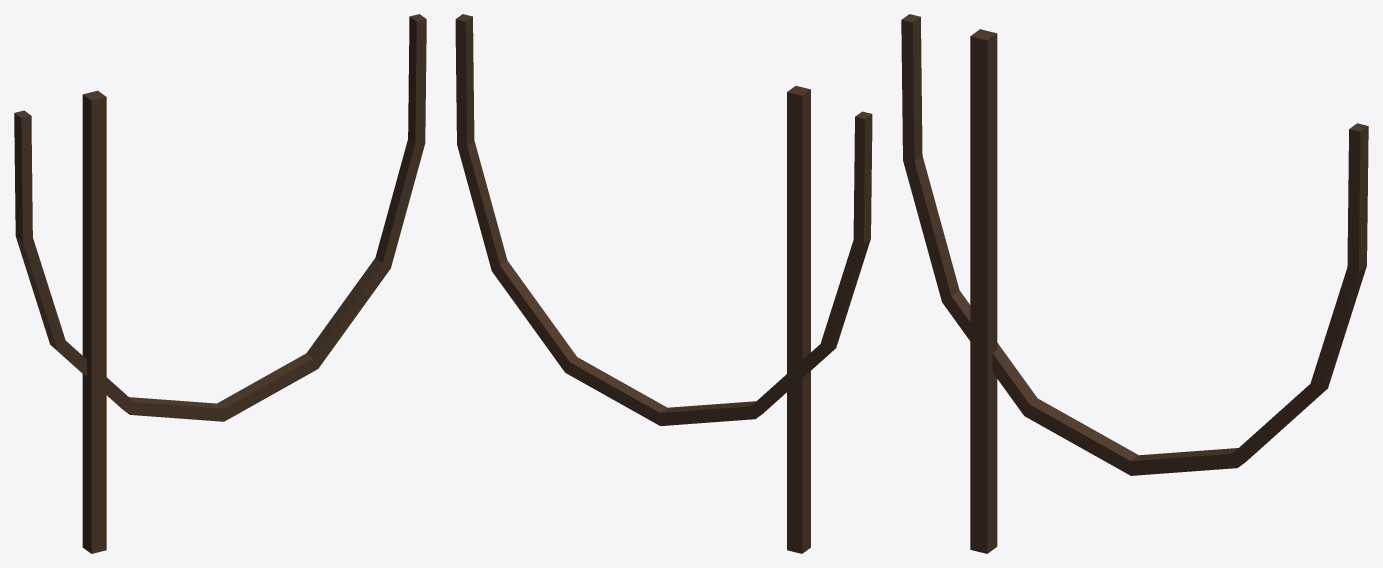
The model's file is SM_Prop_Rope_Hanging_01.glb.
3 views of the same model, side by side, from view 1: azimuth 30°, elevation 25°; view 2: azimuth 150°, elevation 25°; view 3: azimuth 330°, elevation 25° (orthographic). The views are drawn at different scales.
Parts seen in each view (by area): view 1: SM_Prop_Rope_Hanging_01_part00; view 2: SM_Prop_Rope_Hanging_01_part00; view 3: SM_Prop_Rope_Hanging_01_part00.
Part boxes in pixels (left/top/right/bottom): SM_Prop_Rope_Hanging_01_part00: left=14, top=14, right=426, bottom=553; SM_Prop_Rope_Hanging_01_part00: left=455, top=14, right=872, bottom=553; SM_Prop_Rope_Hanging_01_part00: left=901, top=14, right=1368, bottom=553.
Bounding box in the file's own units: 1.29 × 1.38 × 0.0655.
1 material, 1 textured.
